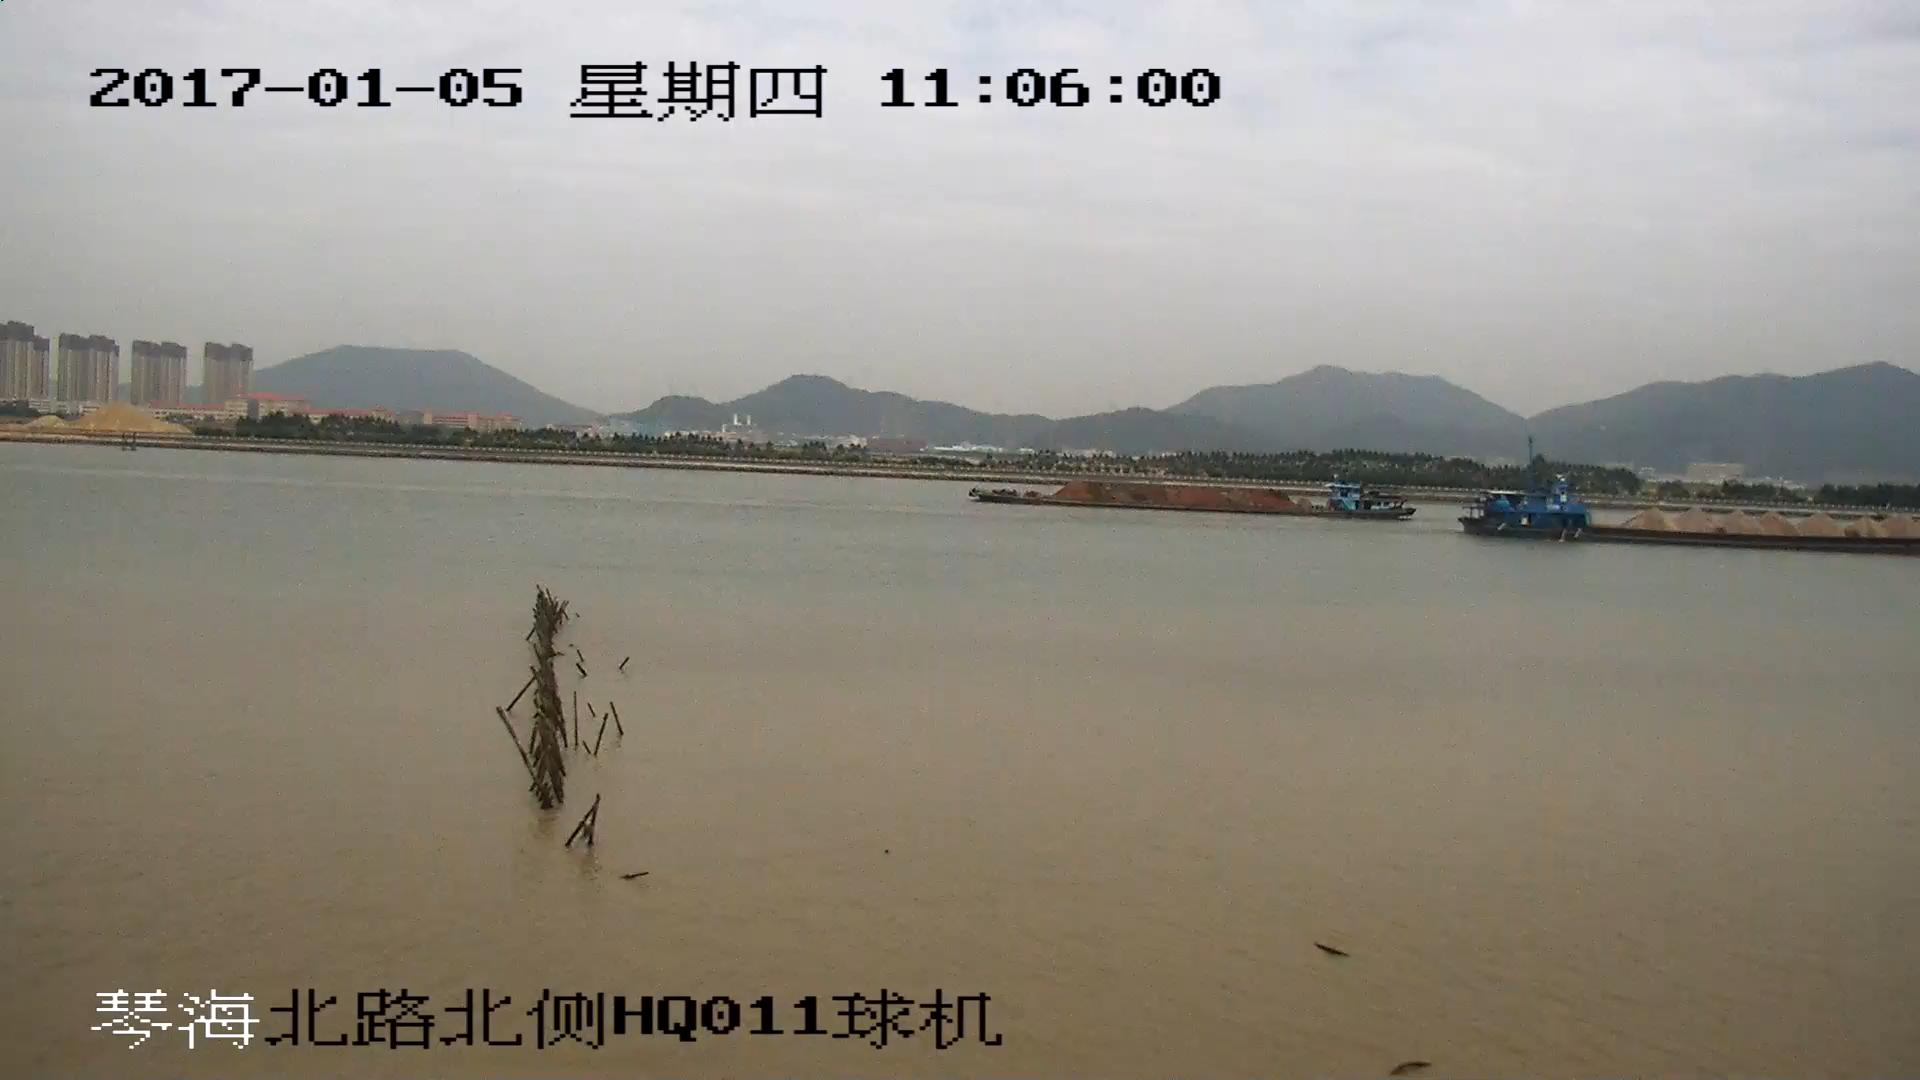ore carrier: (1466, 482, 1920, 550), (970, 472, 1412, 524)
